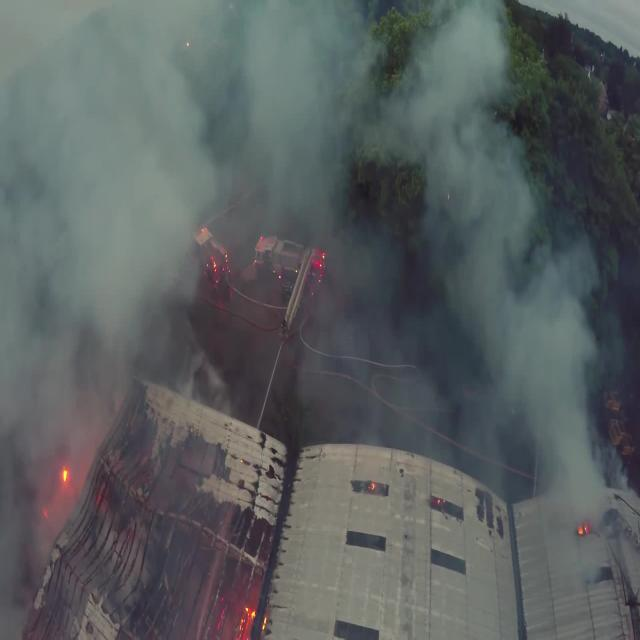Fire: (33, 430, 281, 640), (577, 518, 592, 539), (369, 479, 378, 496)
Smoke: (0, 0, 361, 618), (389, 4, 628, 586)
